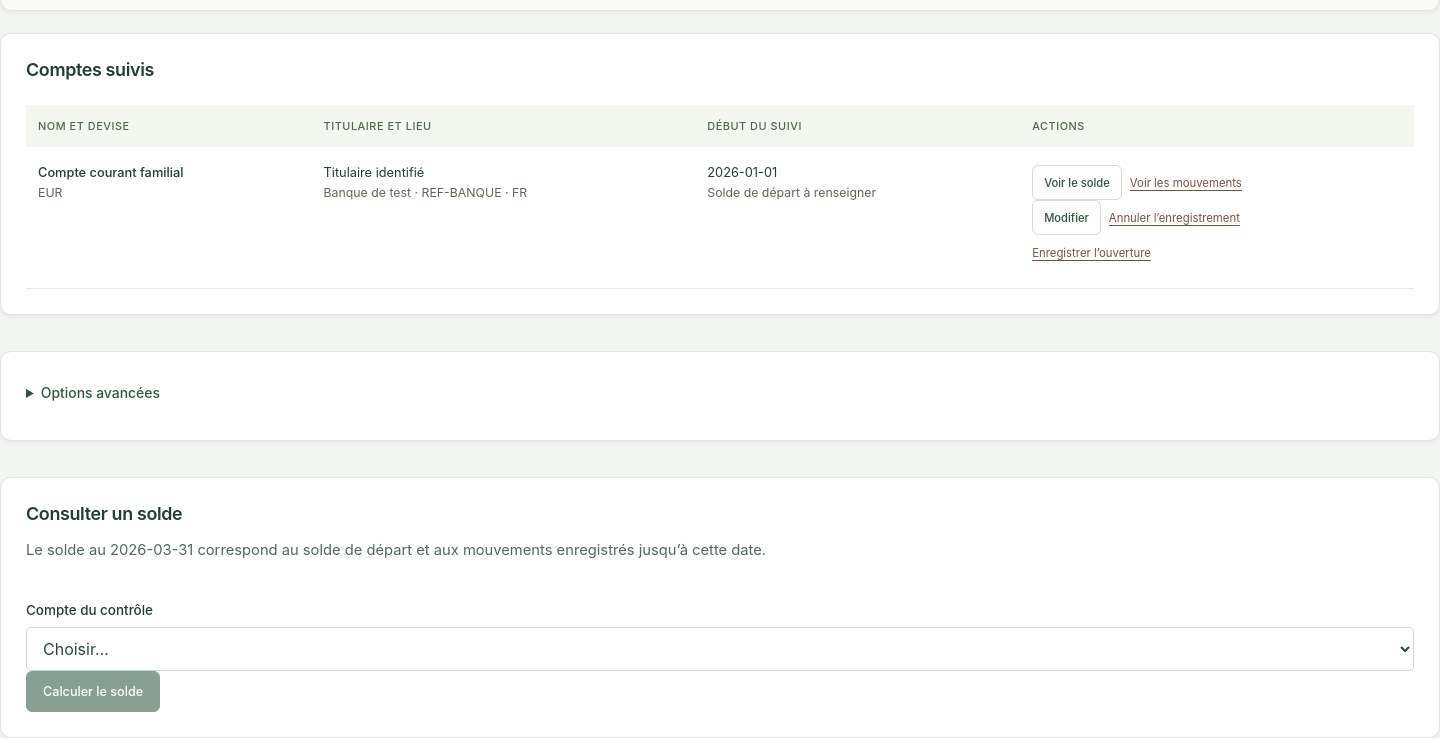
Test: Trésorerie locale › garde un solde sans ouverture inconnu malgré des mouvements connus
(page scrolled)
Expected: the heading "Comptes suivis" is shown, left=26, top=59, right=154, bottom=80
Select "Compte courant familial · EUR" in the dropdown labelled "Compte du contrôle" at (720, 649), box left=26, top=627, right=1414, bottom=671
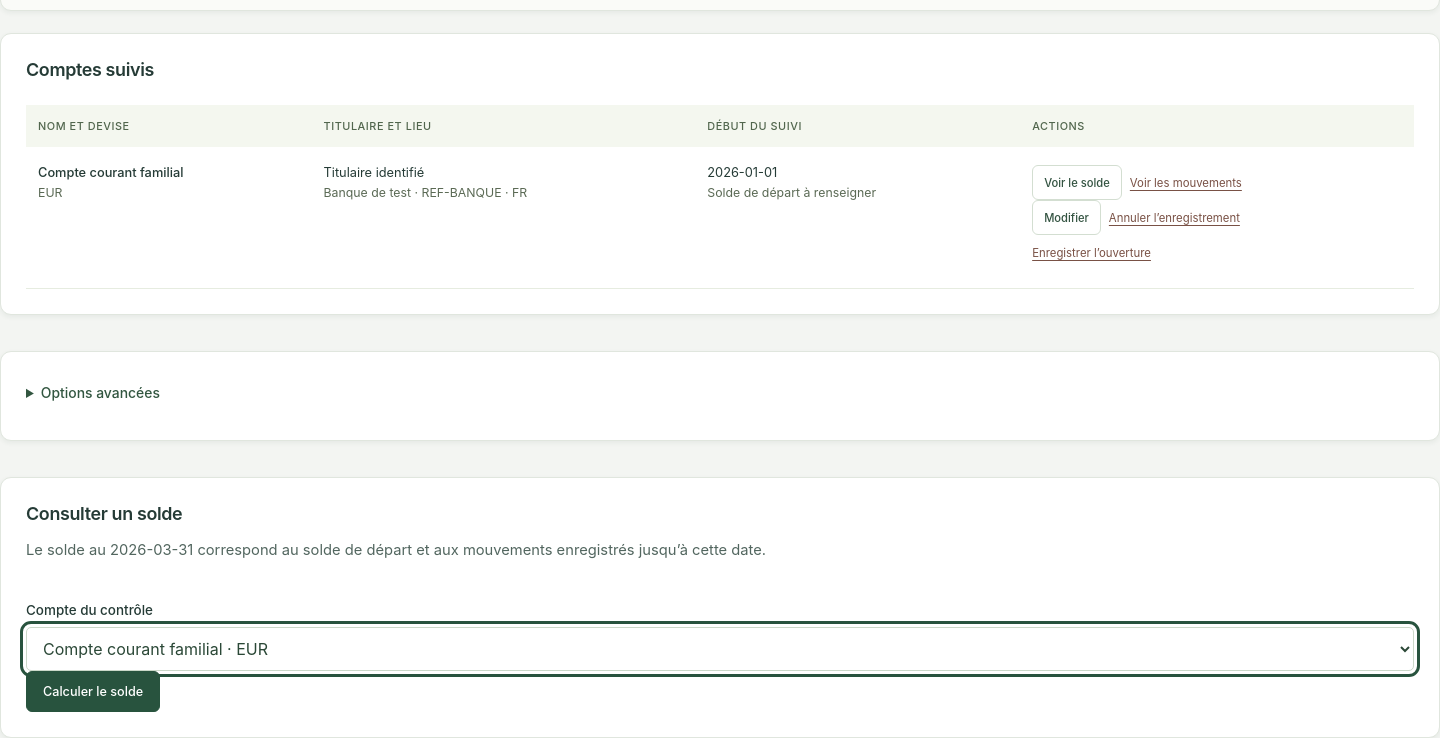
Click the button "Calculer le solde".
click(93, 691)  # box left=26, top=671, right=160, bottom=712
(page scrolled)
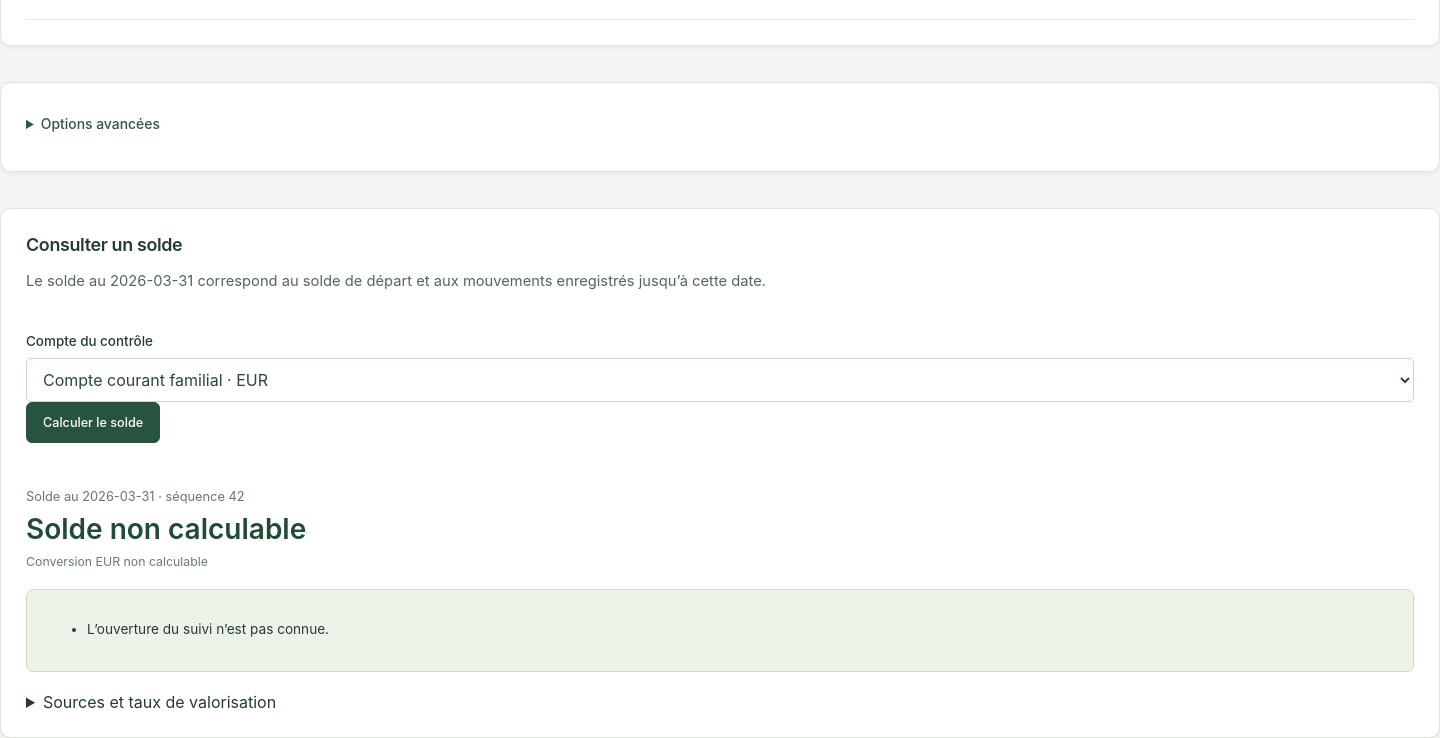
Now the text "Solde non calculable" is shown, box left=26, top=512, right=306, bottom=546
Now the list item "L’ouverture du suivi n’est pas connue." is shown, box left=87, top=621, right=329, bottom=637
